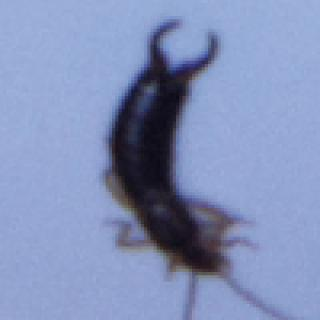earwig: (98, 17, 291, 320)
